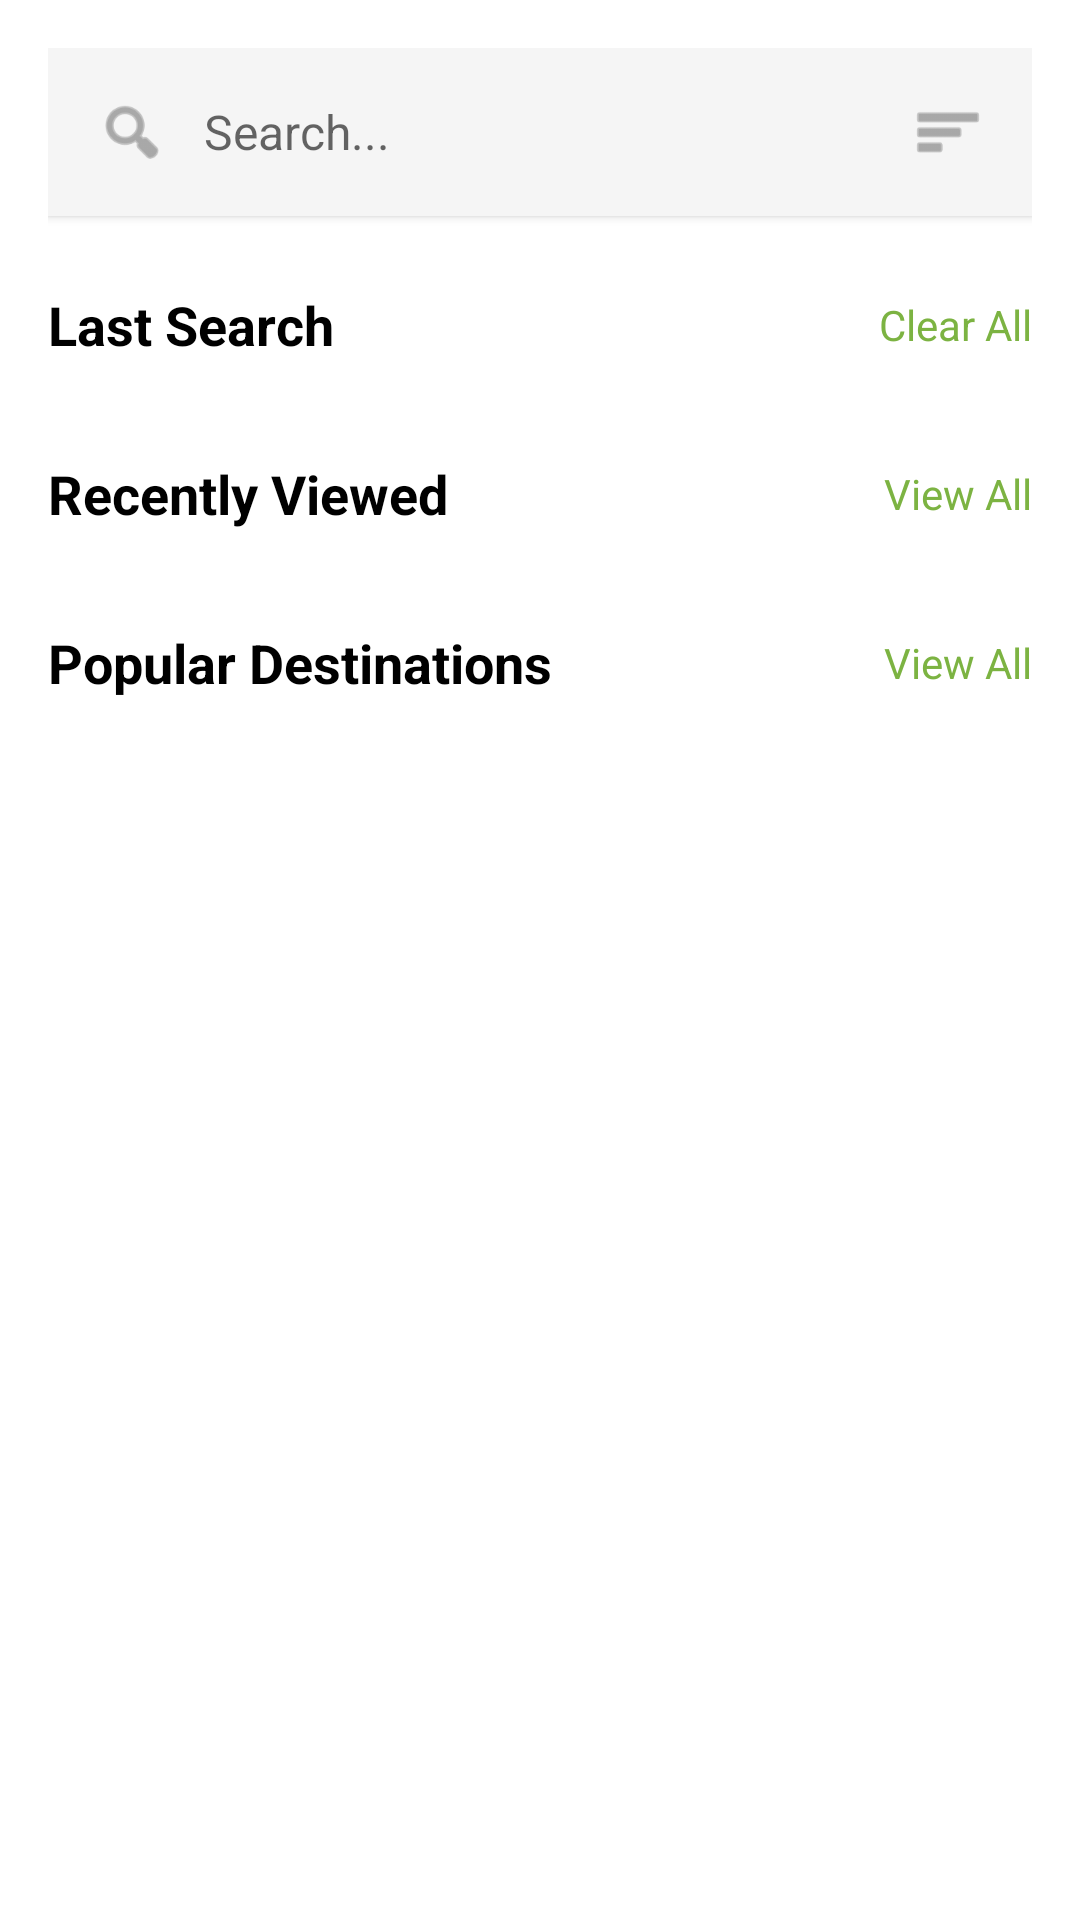

Locate icon controls on the screen. Image size 1080×1920, boxes as BBox(x1, y1, x2, y2).
sort by size: BBox(917, 112, 979, 152)
